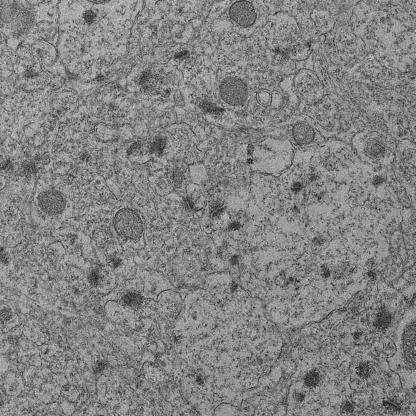mitochondria: (111, 207, 146, 242), (219, 75, 250, 109), (37, 189, 68, 217), (228, 0, 259, 28), (289, 119, 316, 144)
